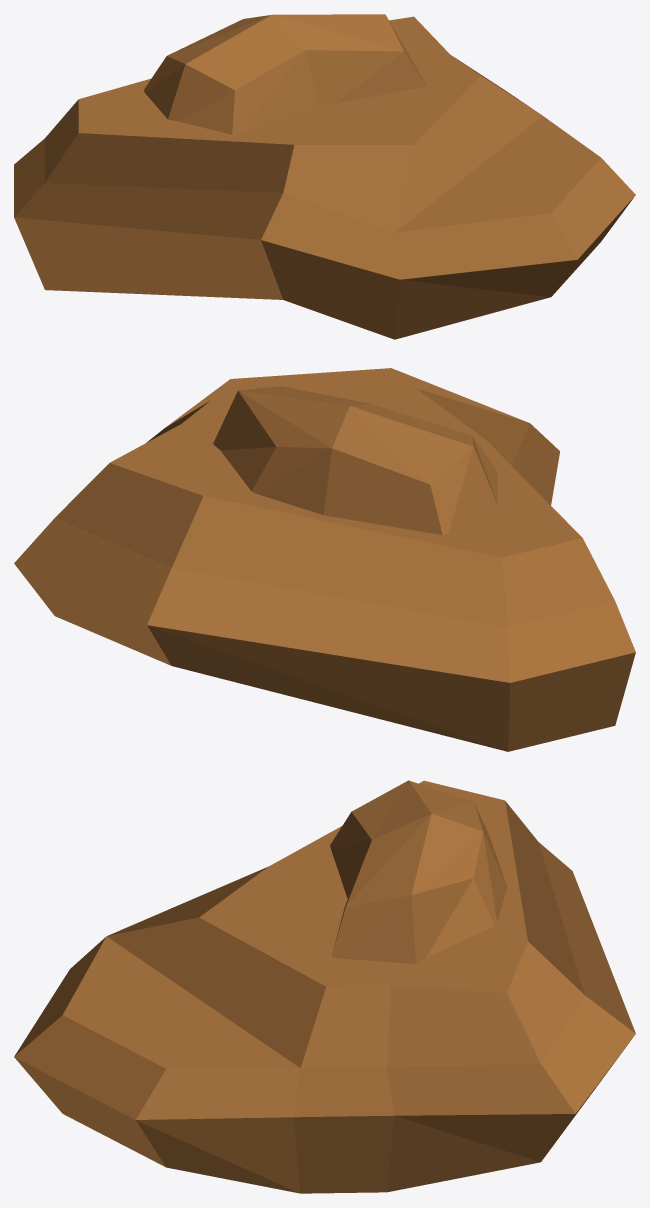
The model's file is 03 Big_stone.FBX.glb.
3 views of the same model, one above another, from view 1: azimuth 30°, elevation 25°; view 2: azimuth 150°, elevation 25°; view 3: azimuth 270°, elevation 25° (orthographic). The views are drawn at different scales.
Parts seen in each view (by area): view 1: Stone_lit_007.3, Stone_lit_029.4; view 2: Stone_lit_007.3, Stone_lit_029.4; view 3: Stone_lit_007.3, Stone_lit_029.4.
Part boxes in pixels (x1,y1,x2,y2): Stone_lit_007.3: (14,16,635,339); Stone_lit_029.4: (143,14,426,134); Stone_lit_007.3: (14,368,635,751); Stone_lit_029.4: (213,386,498,534); Stone_lit_007.3: (14,780,635,1193); Stone_lit_029.4: (330,780,507,963).
Bounding box in the file's own units: 4138 × 1773 × 3887.
